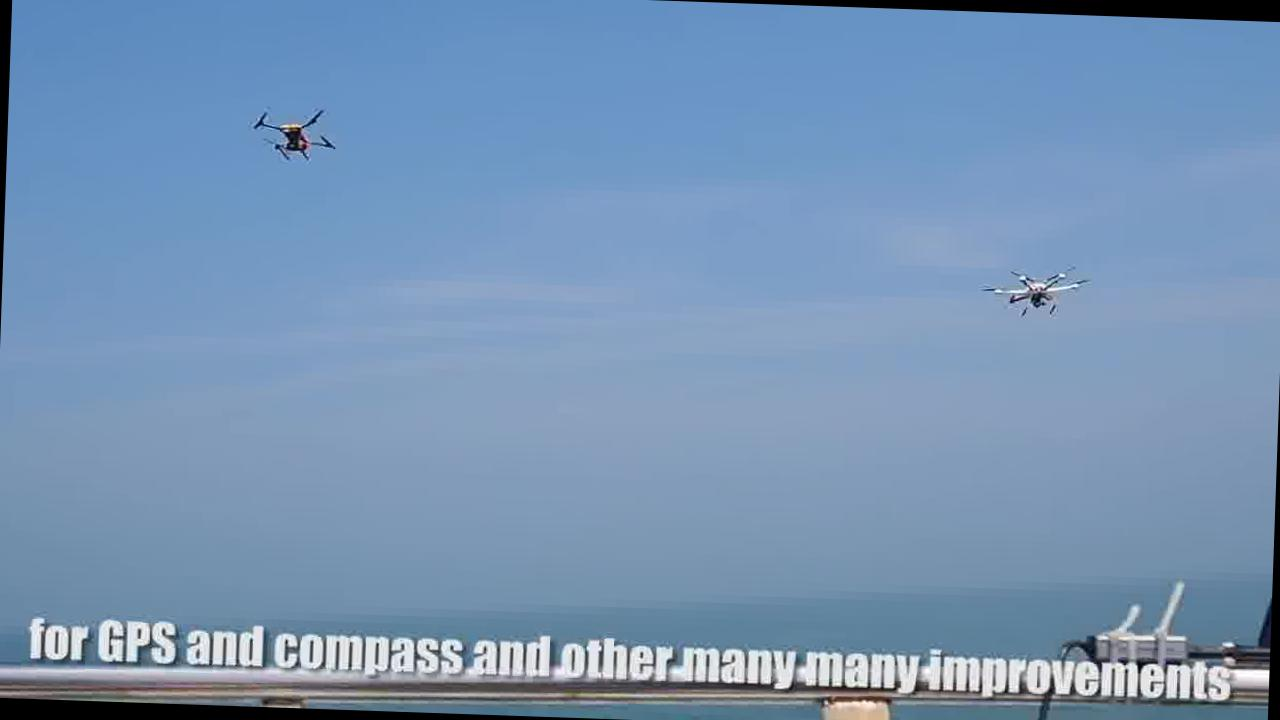drone: (984, 261, 1092, 321), (248, 102, 340, 165)
